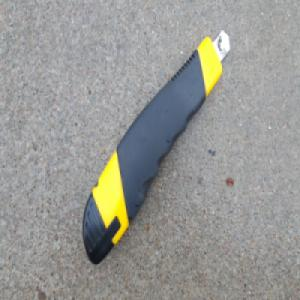Cutter: (82, 30, 230, 268)
